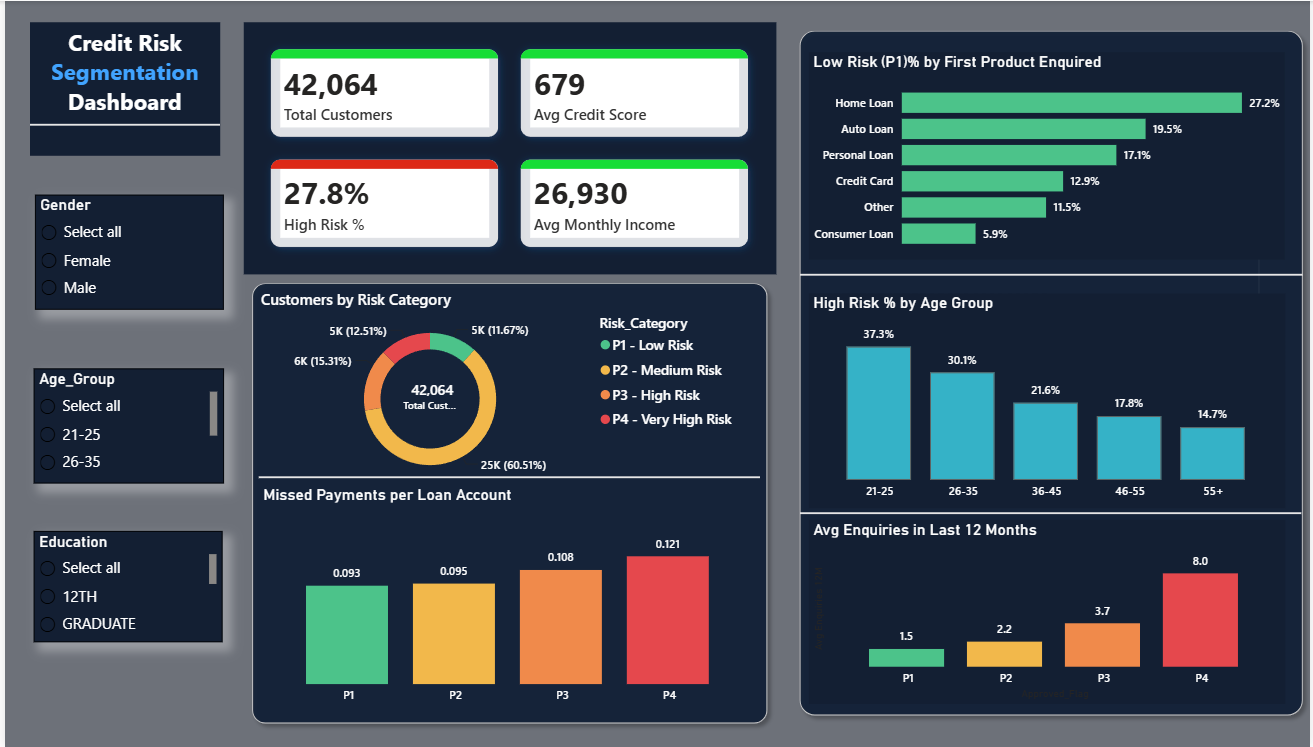

Layout of this report page (visuals, bound fields, positions):
{"tool":"powerbi","page":{"name":"Page 1","canvas":[1400,800],"ordinal":0},"visuals":[{"type":"textbox","box":[26.8,22.8,203.8,143.4],"z":0},{"type":"cardVisual","fields":{"Data":["powerbi_data.Total Customers","powerbi_data.Avg Credit Score","powerbi_data.High Risk %","powerbi_data.Avg Monthly Income"]},"box":[256,22.8,571,270.8],"z":2000},{"type":"shape","box":[255.7,293.4,570.5,490.2],"z":3000},{"type":"donutChart","title":"Customers by Risk Category","fields":{"Y":["powerbi_data.Total Customers"],"Category":["powerbi_data.Risk_Category"]},"box":[269.4,308.3,524.1,215.8],"z":4000},{"type":"cardVisual","fields":{"Data":["powerbi_data.Total Customers"]},"box":[398.1,390.1,120.6,65.7],"z":5000},{"type":"shape","box":[26.8,124.7,203.8,16.1],"z":6000},{"type":"shape","box":[1328.3,72,32.5,412.2],"z":7000},{"type":"shape","box":[842.7,22.6,557.6,752.4],"z":8000},{"type":"shape","box":[272.1,504,537.5,13.4],"z":9000},{"type":"shape","box":[852.6,286.9,538.9,13.4],"z":10000},{"type":"clusteredColumnChart","title":"Missed Payments per Loan Account","fields":{"Category":["powerbi_data.Approved_Flag"],"Y":["powerbi_data.Missed Payments per Account"]},"box":[272.1,518.8,537.5,244],"z":11000},{"type":"clusteredBarChart","title":"Low Risk (P1)% by First Product Enquired","fields":{"Y":["powerbi_data.Low Risk %"],"Category":["powerbi_data.First_Product"]},"box":[861.9,55,510.7,222.5],"z":12000},{"type":"clusteredColumnChart","title":"High Risk % by Age Group","fields":{"Category":["powerbi_data.Age_Group"],"Y":["powerbi_data.High Risk %"]},"box":[862.5,313.4,511,230.1],"z":13000},{"type":"clusteredColumnChart","title":"Avg Enquiries in Last 12 Months","fields":{"Category":["powerbi_data.Approved_Flag"],"Y":["powerbi_data.Avg Enquiries 12M"]},"box":[862.5,556.2,511,197.6],"z":14000},{"type":"shape","box":[852.6,543.5,537.8,12.7],"z":15000},{"type":"listSlicer","fields":{"Values":["powerbi_data.Age_Group"]},"box":[30.8,394.1,203.8,123.3],"z":16000},{"type":"listSlicer","fields":{"Values":["powerbi_data.Education"]},"box":[30.8,568.4,202.4,119.3],"z":17000},{"type":"listSlicer","fields":{"Values":["powerbi_data.Gender"]},"box":[32.2,207.8,202.4,123.3],"z":18000}]}

Visuals, with their boxes in screenshot pixels (x1, y1, x2, y2), scaled from the page's 1400x800 canvas onto the 1313x747 screenshot:
textbox: [25,21,216,155]
cardVisual - powerbi_data.Total Customers x powerbi_data.Avg Credit Score: [240,21,776,274]
shape: [240,274,775,732]
"Customers by Risk Category" donutChart: [253,288,744,489]
cardVisual - powerbi_data.Total Customers: [373,364,486,426]
shape: [25,116,216,131]
shape: [1246,67,1276,452]
shape: [790,21,1312,724]
shape: [255,471,759,483]
shape: [800,268,1305,280]
"Missed Payments per Loan Account" clusteredColumnChart: [255,484,759,712]
"Low Risk (P1)% by First Product Enquired" clusteredBarChart: [808,51,1287,259]
"High Risk % by Age Group" clusteredColumnChart: [809,293,1288,507]
"Avg Enquiries in Last 12 Months" clusteredColumnChart: [809,519,1288,704]
shape: [800,507,1304,519]
listSlicer - powerbi_data.Age_Group: [29,368,220,483]
listSlicer - powerbi_data.Education: [29,531,219,642]
listSlicer - powerbi_data.Gender: [30,194,220,309]
